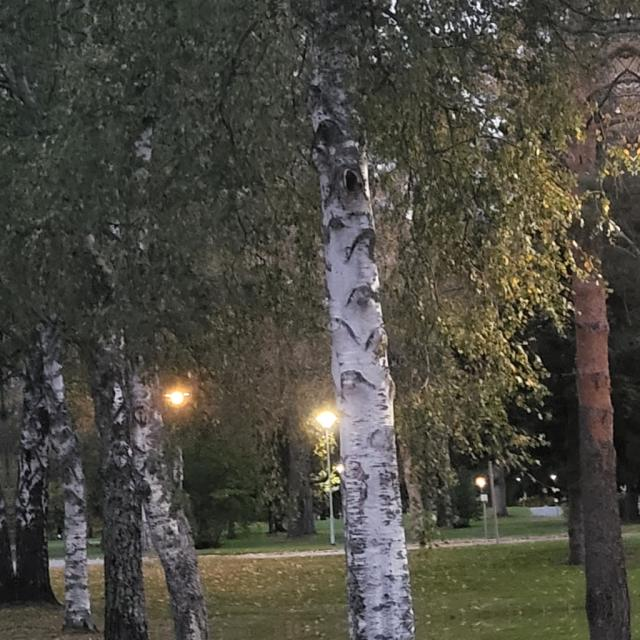Birch: (311, 11, 410, 637), (124, 67, 220, 640), (39, 334, 92, 614)
